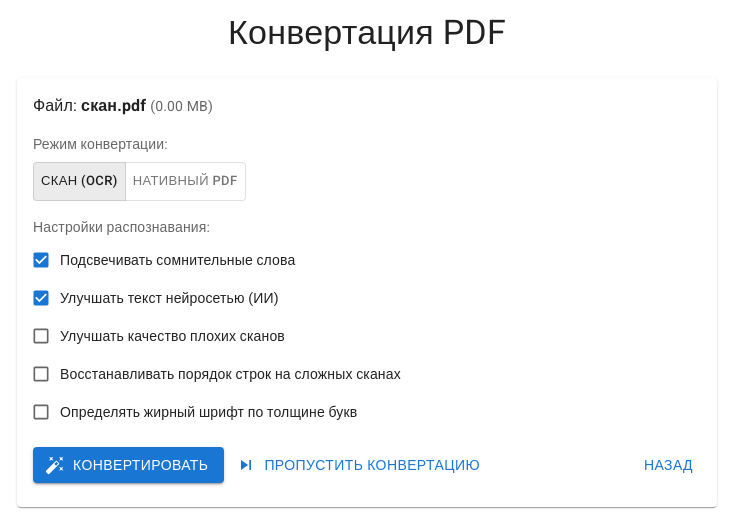
ConvertScreen › ошибка конвертации → экран ошибки с «Повторить» и «Пропустить»
Click the button "Конвертировать": coordinates (129, 465) x1=33 y1=447 x2=224 y2=483
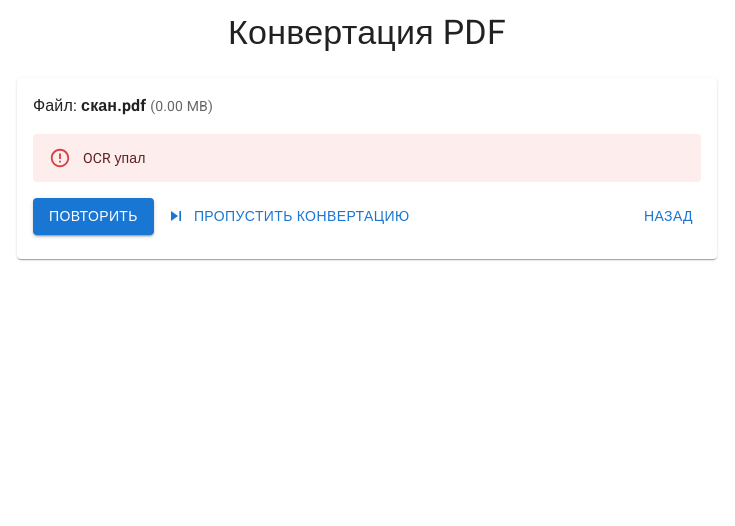
Check: the button "Пропустить конвертацию" is shown, box x1=162 y1=198 x2=418 y2=234
Check: the text "OCR упал" is shown, box x1=83 y1=150 x2=146 y2=166
Check: the button "Повторить" is shown, box x1=33 y1=198 x2=154 y2=234
